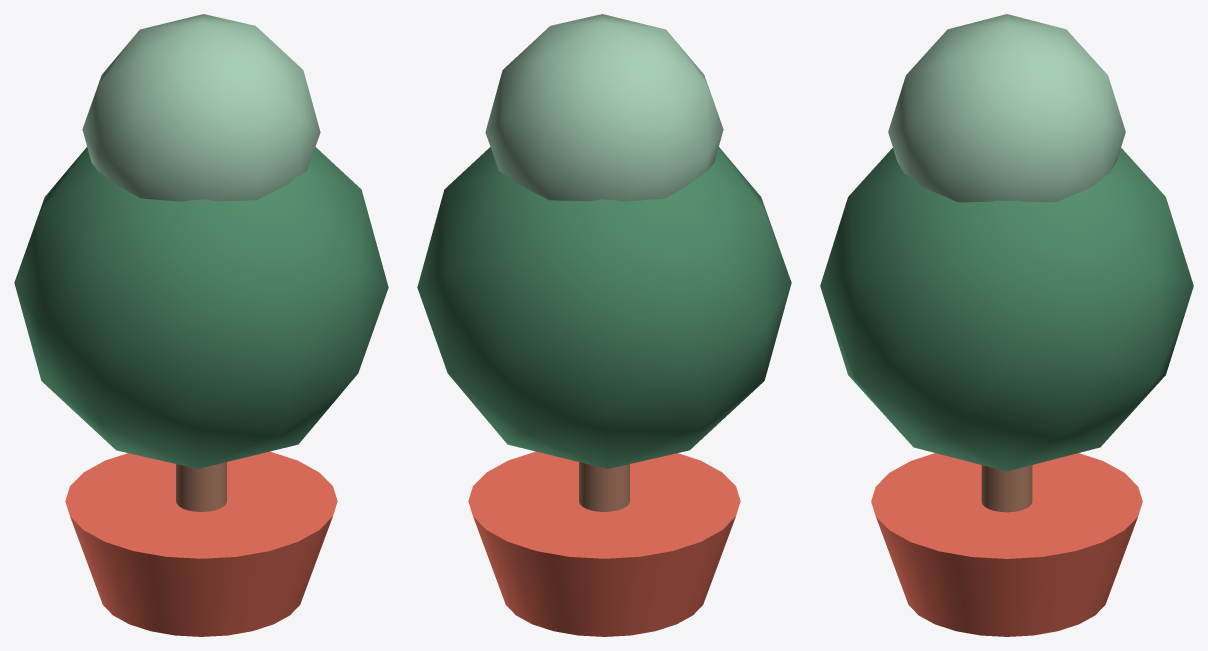
Rendered from deco_topiary.glb.
3 views of the same model, side by side, from view 1: azimuth 30°, elevation 25°; view 2: azimuth 150°, elevation 25°; view 3: azimuth 270°, elevation 25° (orthographic).
Parts seen in each view (by area): view 1: deco_topiary; view 2: deco_topiary; view 3: deco_topiary.
Part boxes in pixels (x1,y1,x2,y2): deco_topiary: [14, 14, 388, 636]; deco_topiary: [417, 14, 791, 636]; deco_topiary: [820, 14, 1193, 636].
Size of the model in its own units: 2.2 by 3.7 by 2.2.
